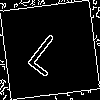L: (25, 25, 75, 78)
